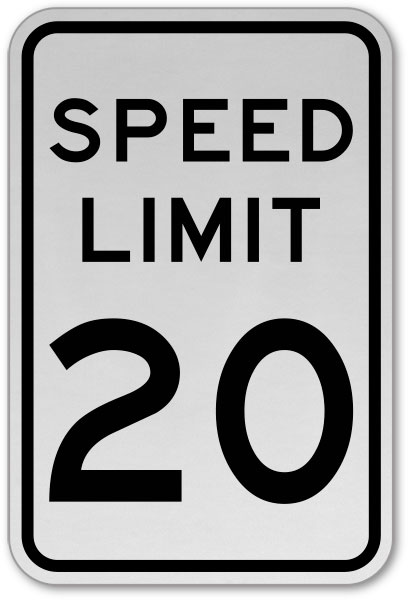speed limit: (10, 1, 386, 578)
